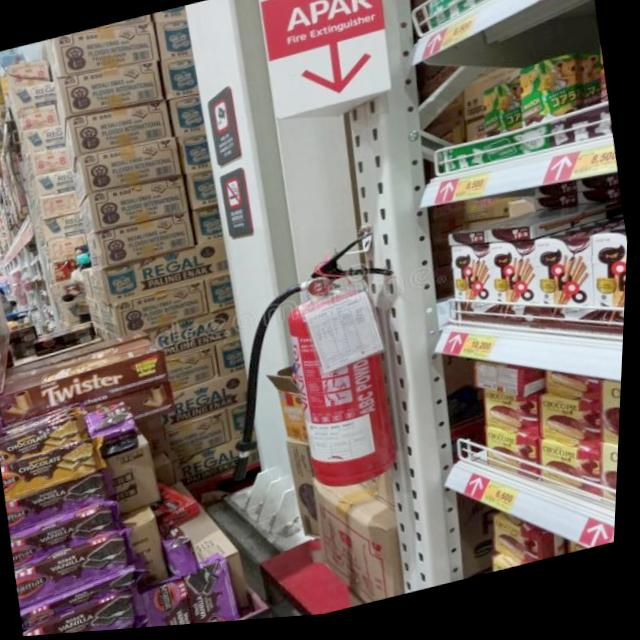FireExtinguisher: (197, 225, 440, 524)
